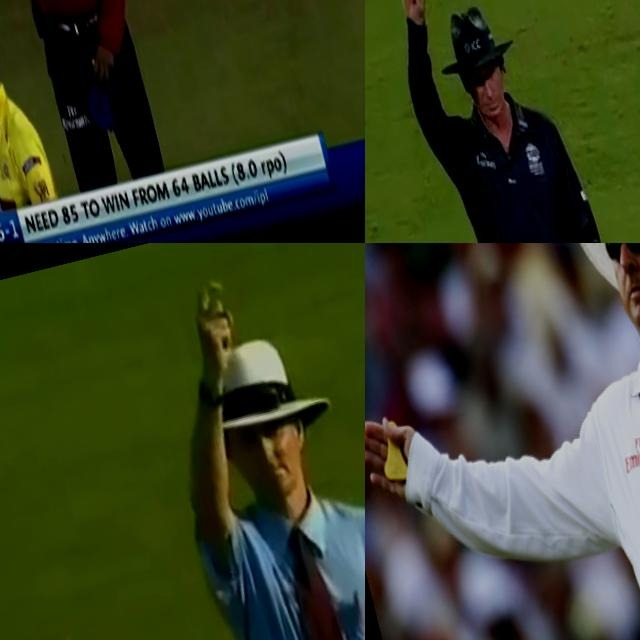Out: (130, 243, 365, 640), (369, 0, 620, 243), (0, 0, 180, 243)
Wide: (365, 243, 640, 640)
